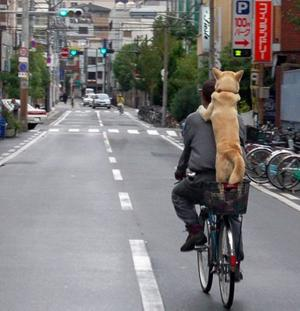person: (173, 78, 246, 284)
